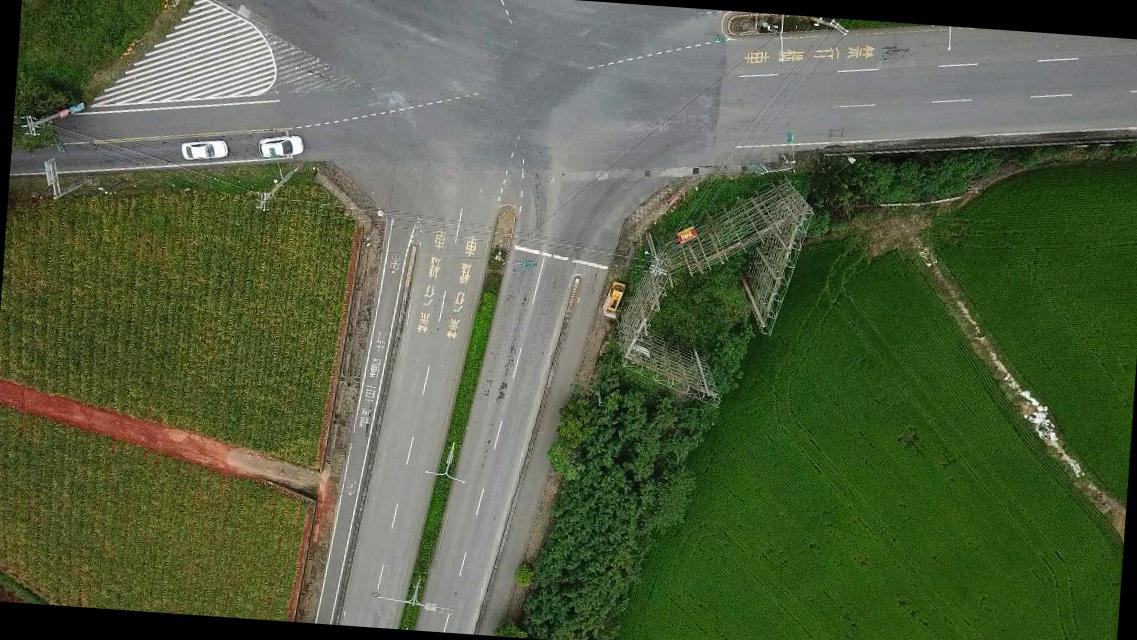vehicle: (256, 131, 304, 161), (180, 138, 228, 162), (606, 280, 625, 312)
